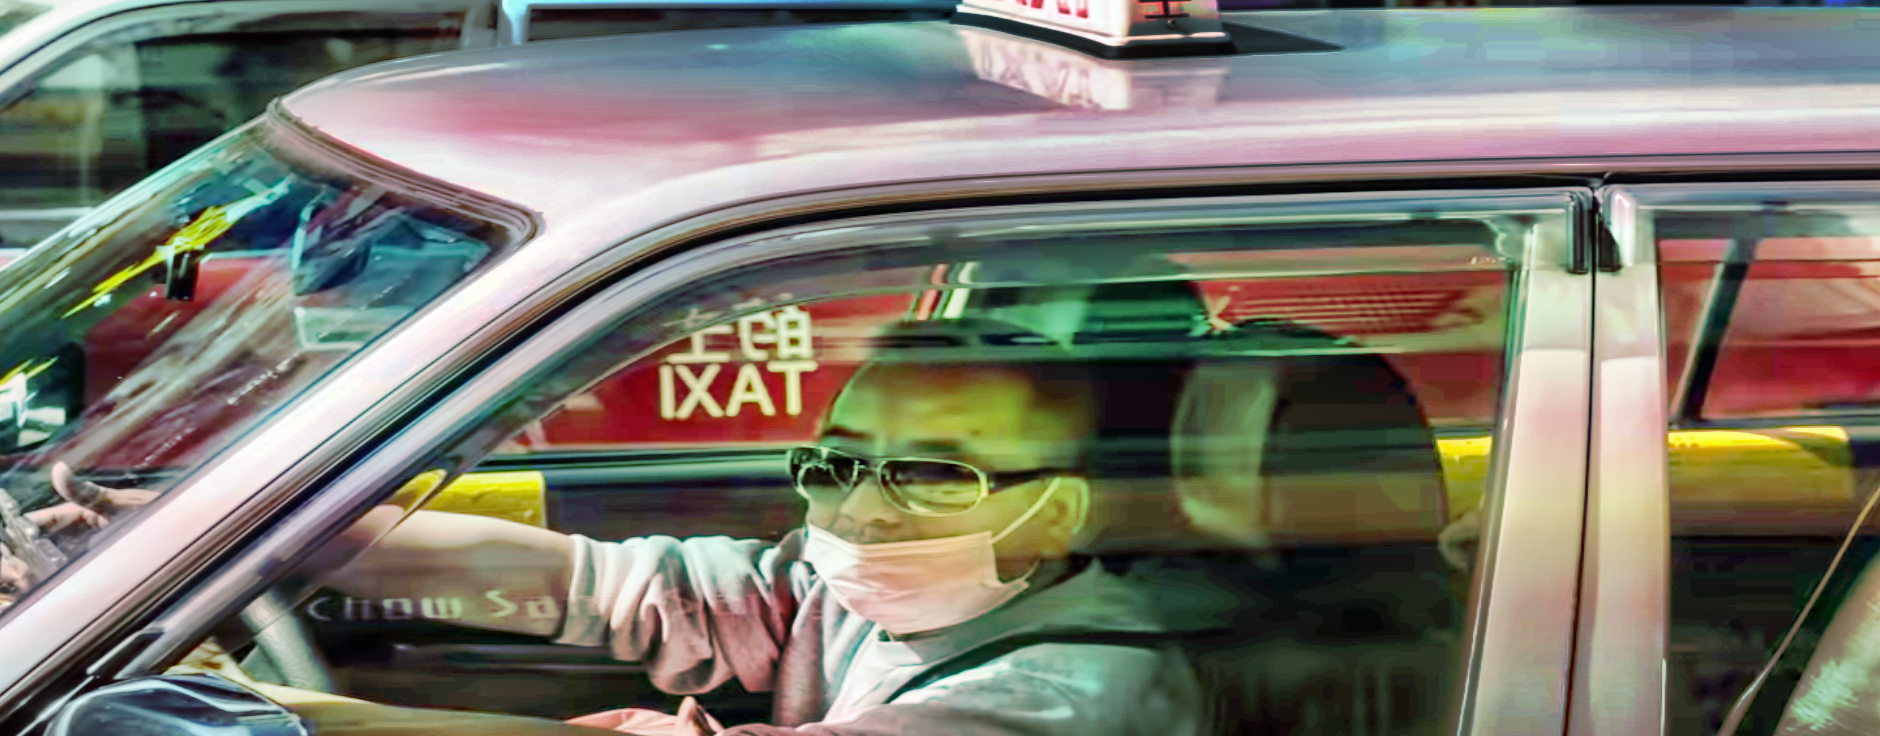mask_weared_incorrect: (792, 322, 1125, 639)
